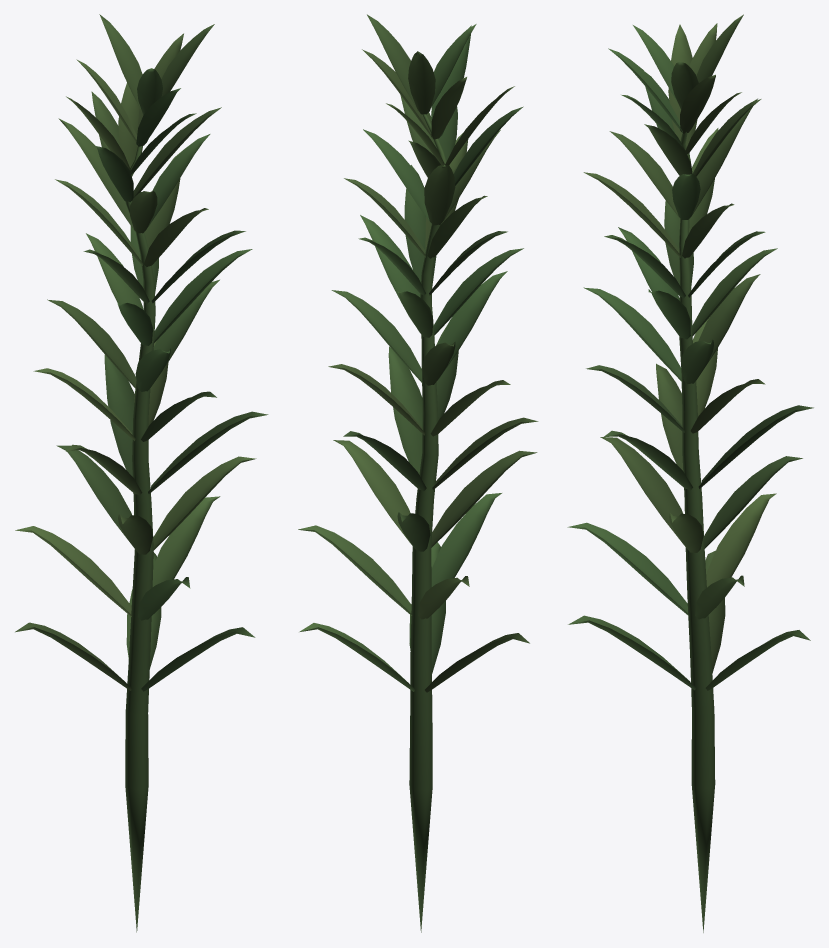
Rendered from underwater-aquatic-plants-waterweed_v10.fbx.
The picture shows the model from 3 angles, left to right: view 1: azimuth 30°, elevation 25°; view 2: azimuth 150°, elevation 25°; view 3: azimuth 270°, elevation 25°; orthographic projection.
Visible parts, largest first — view 1: Waterweed_v10; view 2: Waterweed_v10; view 3: Waterweed_v10.
Part boxes in pixels (bbox=[...]): Waterweed_v10: bbox=[15, 14, 268, 932]; Waterweed_v10: bbox=[298, 14, 538, 932]; Waterweed_v10: bbox=[567, 14, 813, 932].
Bounding box in the file's own units: 0.1528 × 0.6 × 0.1476.
